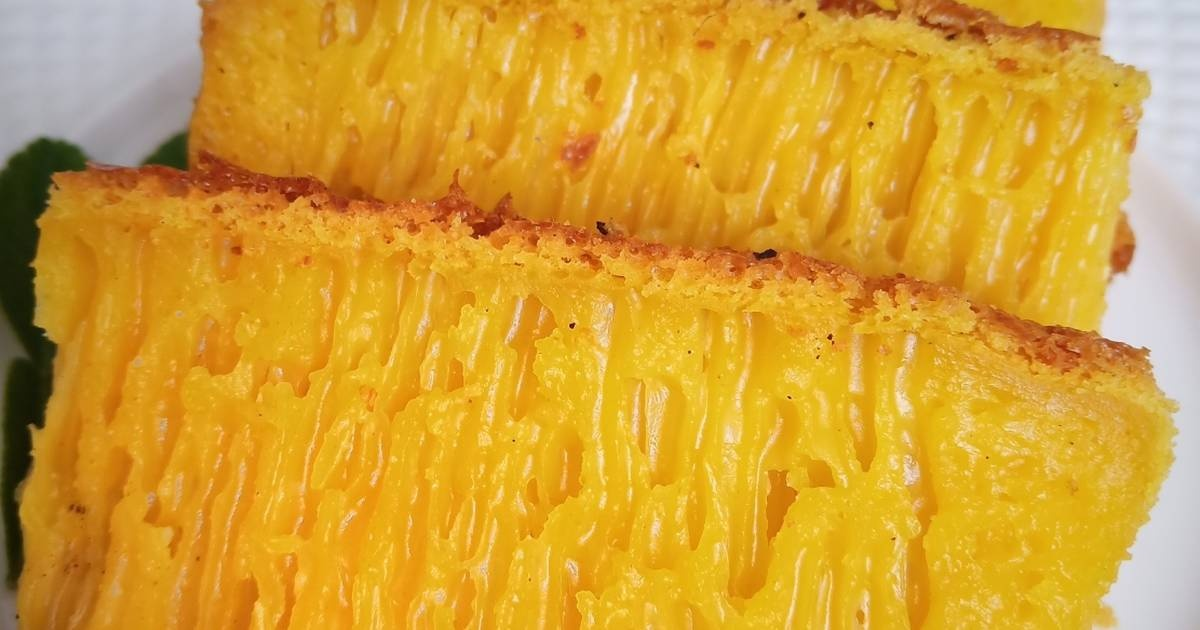bika_ambon: (13, 158, 1139, 630)
